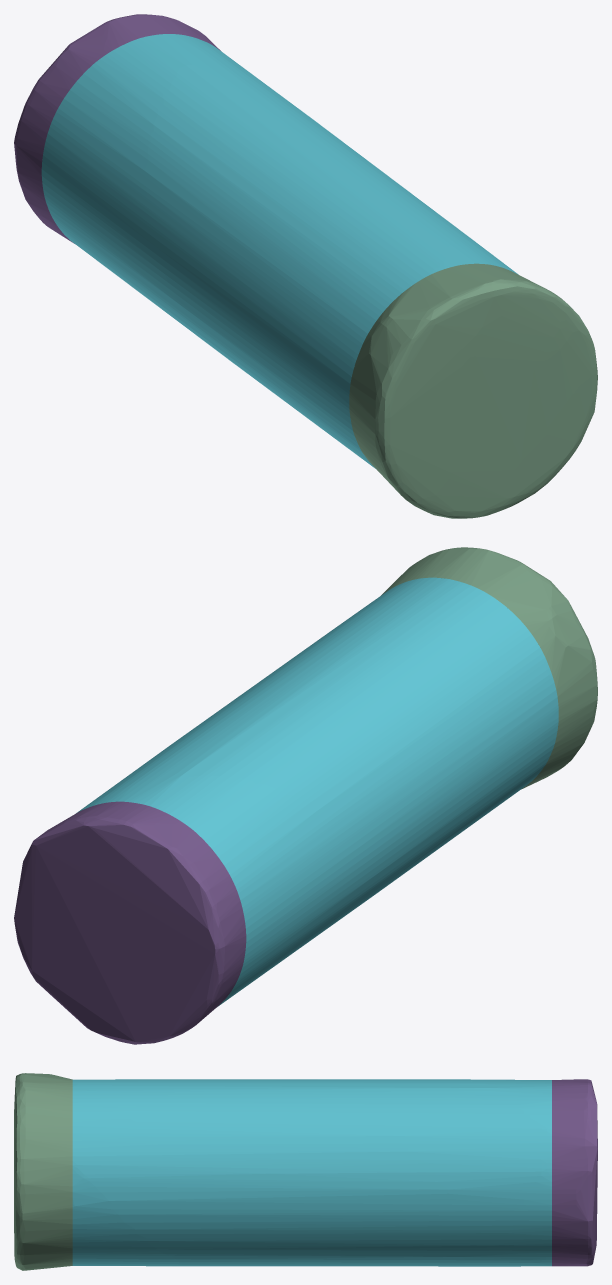
The model's file is coacd_collision.obj.
3 renders of one model, top to bottom at view 1: azimuth 30°, elevation 25°; view 2: azimuth 150°, elevation 25°; view 3: azimuth 270°, elevation 25°, orthographic. The views are drawn at different scales.
Visible parts, largest first — view 1: geometry_2, geometry_0, geometry_1; view 2: geometry_2, geometry_1, geometry_0; view 3: geometry_2, geometry_0, geometry_1.
Boxes of the visible parts, bbox=[...] form: geometry_2: bbox=[41, 34, 518, 469]; geometry_0: bbox=[349, 263, 597, 518]; geometry_1: bbox=[14, 14, 220, 243]; geometry_2: bbox=[77, 577, 558, 1006]; geometry_1: bbox=[14, 801, 246, 1044]; geometry_0: bbox=[381, 547, 597, 789]; geometry_2: bbox=[72, 1079, 551, 1266]; geometry_0: bbox=[14, 1073, 72, 1270]; geometry_1: bbox=[552, 1079, 597, 1266].
Bounding box in the file's own units: 72.99 × 72.99 × 216.
